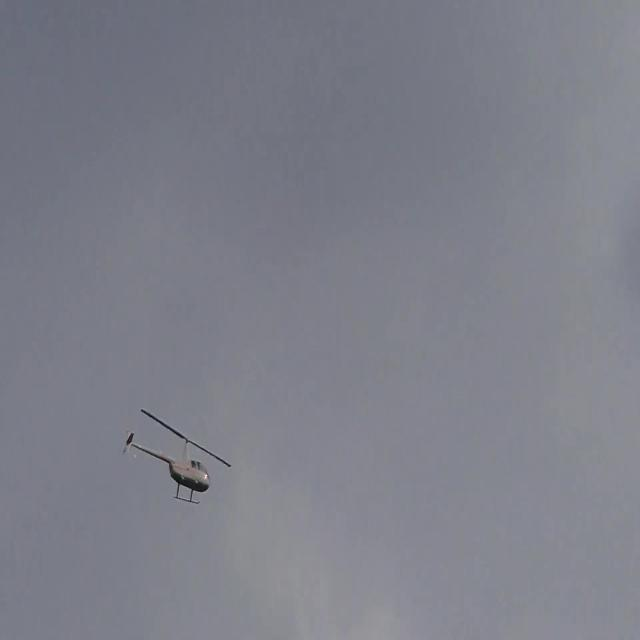CIV_HELO: (125, 428, 211, 506)
